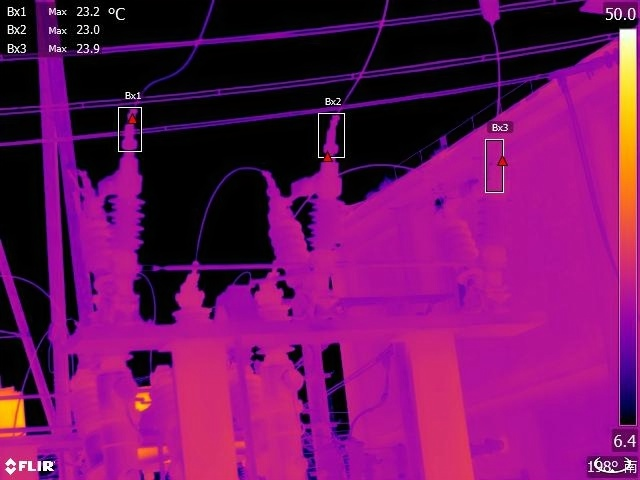post insulator: (472, 186, 524, 261), (257, 202, 309, 269), (108, 183, 148, 265), (76, 206, 114, 278), (442, 213, 485, 276), (309, 193, 346, 257)
switch: (71, 147, 150, 212), (427, 161, 512, 221), (260, 155, 351, 211)
